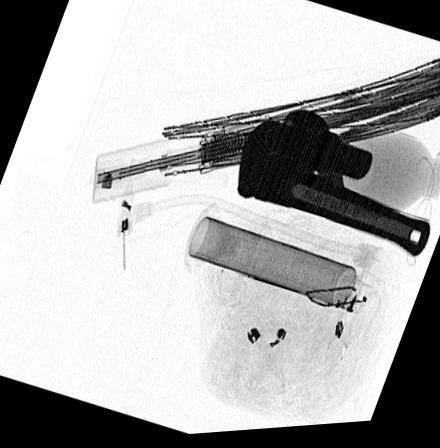Wrench: (236, 109, 431, 264)
